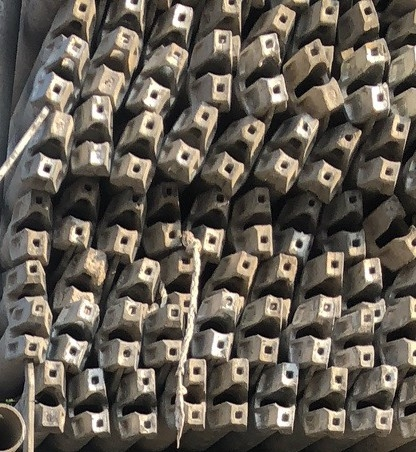THsquare_steel: (261, 115, 322, 189), (303, 125, 364, 197), (209, 117, 272, 185), (288, 39, 345, 113), (166, 103, 220, 179), (132, 43, 189, 111), (343, 42, 395, 114), (89, 27, 138, 101), (240, 35, 289, 109), (366, 112, 412, 190), (366, 197, 416, 267), (40, 34, 89, 105), (27, 110, 72, 187), (116, 111, 164, 180), (199, 285, 244, 358), (233, 187, 281, 254), (191, 187, 236, 256), (327, 191, 372, 258), (101, 298, 144, 368), (194, 28, 233, 105), (256, 362, 299, 431), (58, 300, 102, 367), (305, 365, 347, 434), (75, 96, 114, 169), (246, 293, 285, 366), (172, 359, 212, 430), (67, 369, 110, 435), (115, 368, 157, 435), (280, 193, 325, 255), (108, 190, 149, 258), (211, 356, 249, 429), (14, 192, 55, 259), (63, 176, 101, 248), (355, 365, 394, 434), (145, 181, 185, 248), (345, 259, 387, 322), (29, 360, 66, 431), (299, 295, 333, 365), (66, 251, 109, 303), (12, 301, 51, 358), (163, 252, 199, 311), (341, 307, 376, 367), (150, 306, 185, 363), (387, 298, 416, 365), (3, 261, 53, 299), (301, 251, 344, 293), (214, 252, 258, 292), (258, 253, 300, 294), (53, 1, 102, 36), (154, 3, 196, 42), (119, 257, 158, 299), (339, 1, 387, 32), (259, 1, 301, 34), (306, 1, 341, 39), (107, 1, 155, 28), (207, 1, 246, 29)
